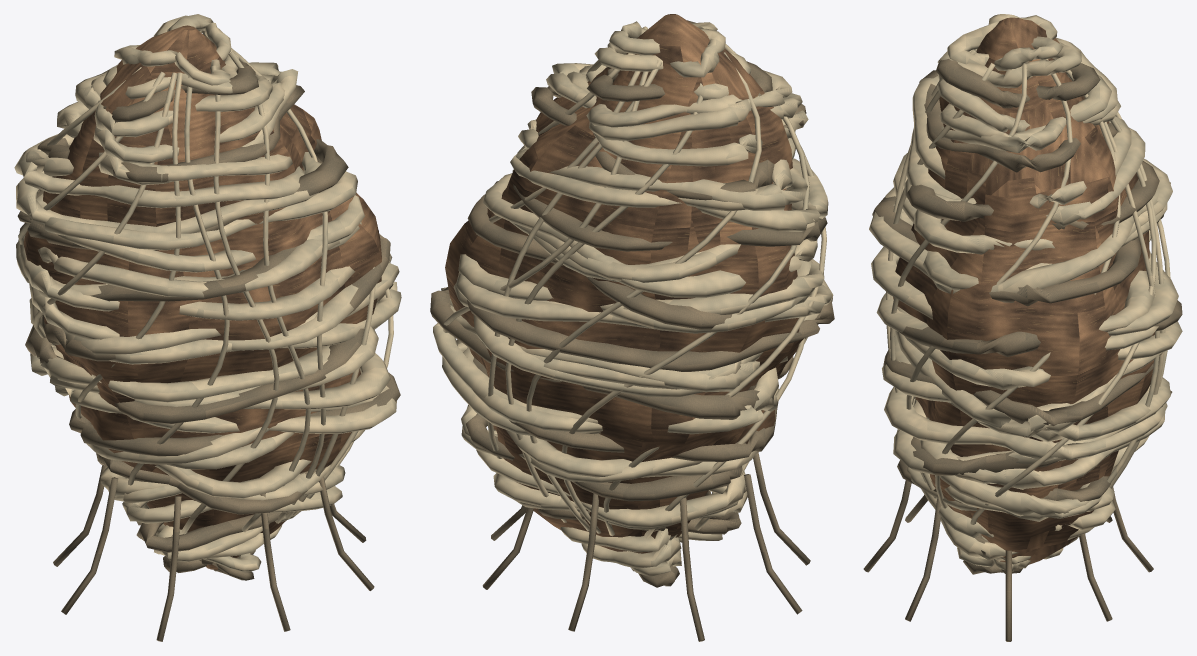
Rendered from moth_cocoon.glb.
The picture shows the model from 3 angles, left to right: view 1: azimuth 30°, elevation 25°; view 2: azimuth 150°, elevation 25°; view 3: azimuth 270°, elevation 25°; orthographic projection. The views are drawn at different scales.
Parts seen in each view (by area): view 1: TexturedSurface.018; view 2: TexturedSurface.018; view 3: TexturedSurface.018.
Boxes of the visible parts, x1,y1,x2,y2 form: TexturedSurface.018: [14, 14, 401, 641]; TexturedSurface.018: [430, 14, 834, 641]; TexturedSurface.018: [863, 14, 1182, 641].
Bounding box in the file's own units: 0.7489 × 1.08 × 0.577.
Materials: 3 (3 with a texture image).
